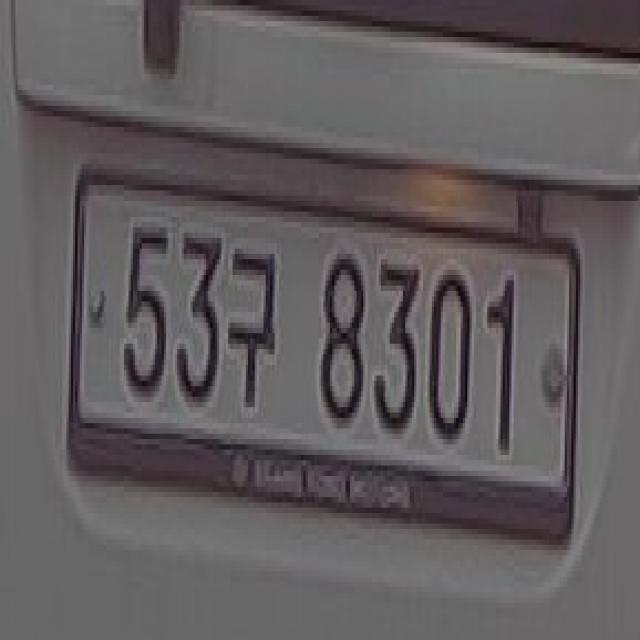0: (419, 254, 485, 460)
1: (480, 259, 522, 460)
3: (177, 222, 230, 418), (374, 249, 423, 444)
5: (120, 206, 172, 418)
8: (314, 243, 376, 450)
gu: (226, 227, 281, 428)
license_plate: (69, 159, 576, 555)
